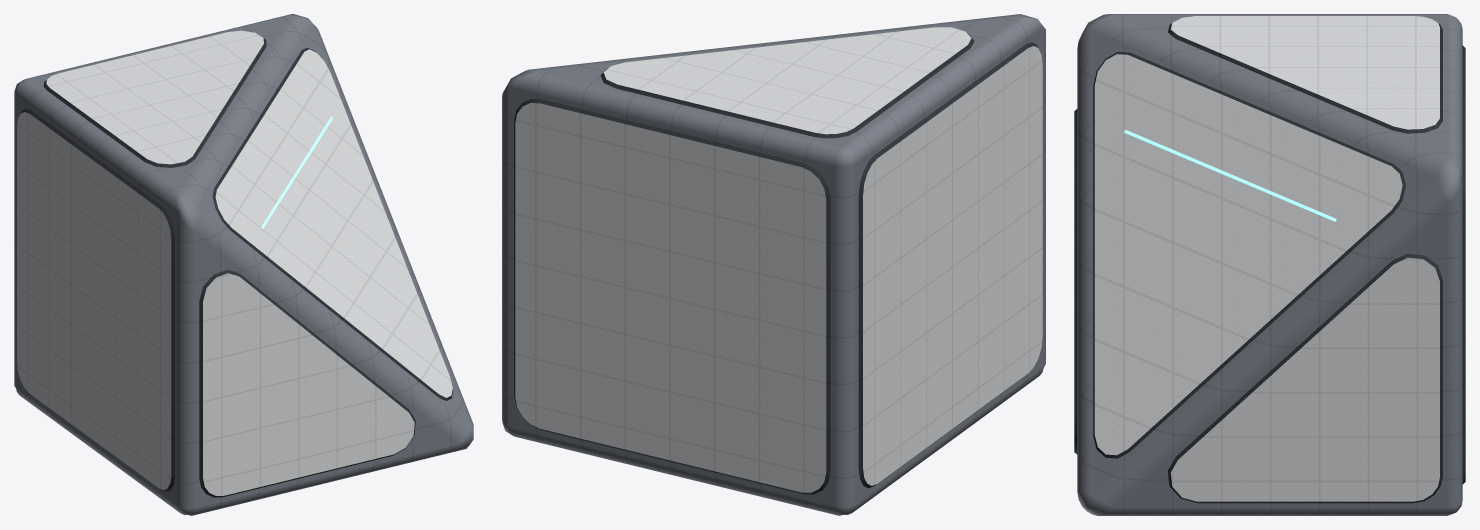
File: R4B_InnerCorner.glb
The picture shows the model from 3 angles, left to right: view 1: azimuth 30°, elevation 25°; view 2: azimuth 150°, elevation 25°; view 3: azimuth 270°, elevation 25°; orthographic projection. The views are drawn at different scales.
Visible parts, largest first — view 1: R4B_InnerCorner; view 2: R4B_InnerCorner; view 3: R4B_InnerCorner.
Part boxes in pixels (x1,y1,x2,y2): R4B_InnerCorner: (14, 14, 473, 515); R4B_InnerCorner: (502, 14, 1045, 515); R4B_InnerCorner: (1074, 14, 1465, 515).
Bounding box in the file's own units: 0.52 × 0.52 × 0.52.
Materials: 4 (3 with a texture image).
